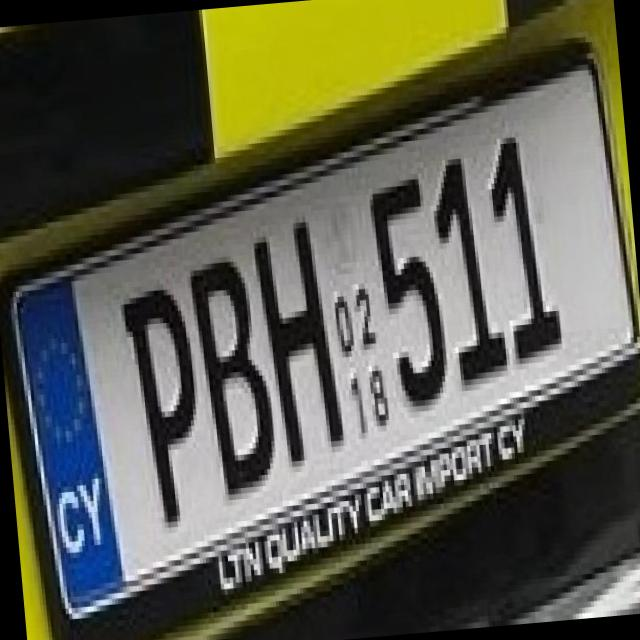1: (469, 112, 570, 372), (418, 128, 512, 392)
5: (353, 149, 457, 415)
B: (170, 231, 282, 503)
H: (238, 192, 352, 470)
L: (524, 84, 628, 344)
P: (104, 260, 210, 526)
